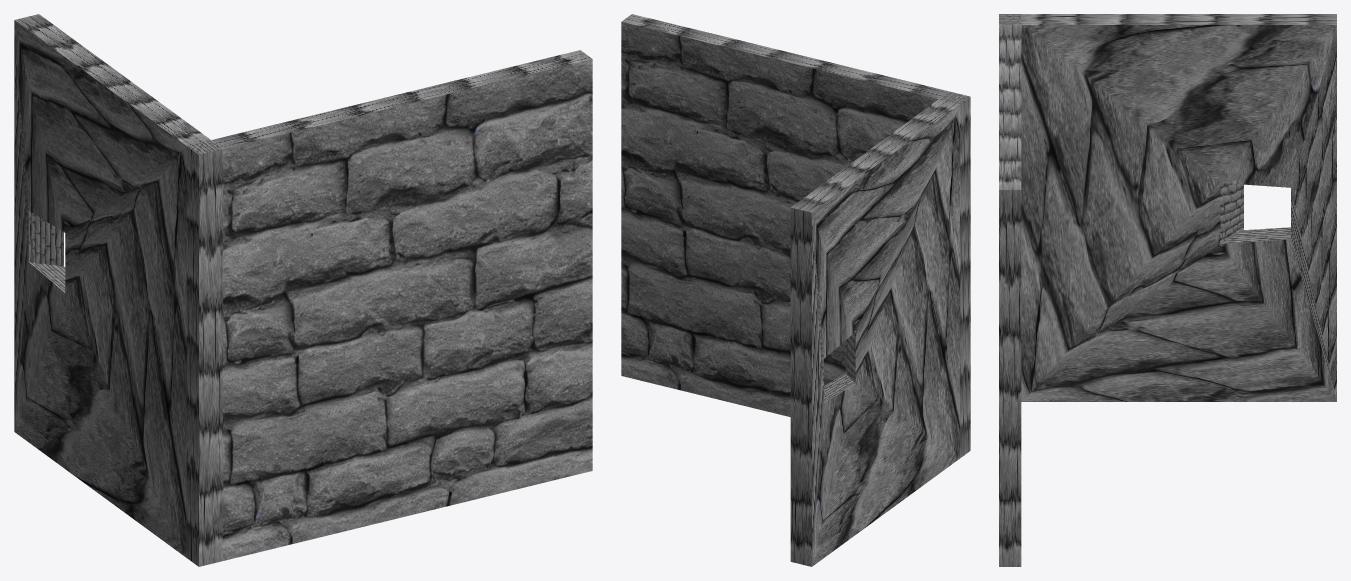
The picture shows the model from 3 angles, left to right: view 1: azimuth 30°, elevation 25°; view 2: azimuth 150°, elevation 25°; view 3: azimuth 270°, elevation 25°; orthographic projection. The views are drawn at different scales.
Parts seen in each view (by area): view 1: Cube.001; view 2: Cube.001; view 3: Cube.001.
Boxes of the visible parts, <box> form: Cube.001: <box>14,14,592,566</box>; Cube.001: <box>621,14,970,566</box>; Cube.001: <box>999,14,1336,566</box>.
Bounding box in the file's own units: 17.73 × 14.39 × 17.73.
